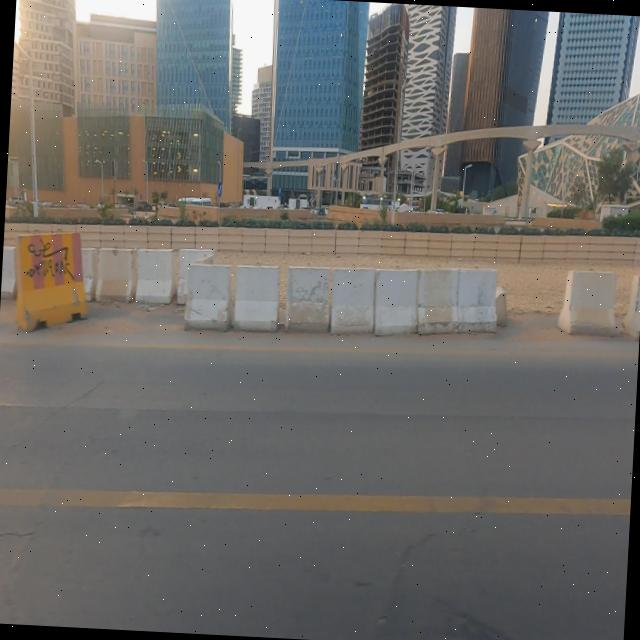Graffiti: (24, 237, 78, 287)
